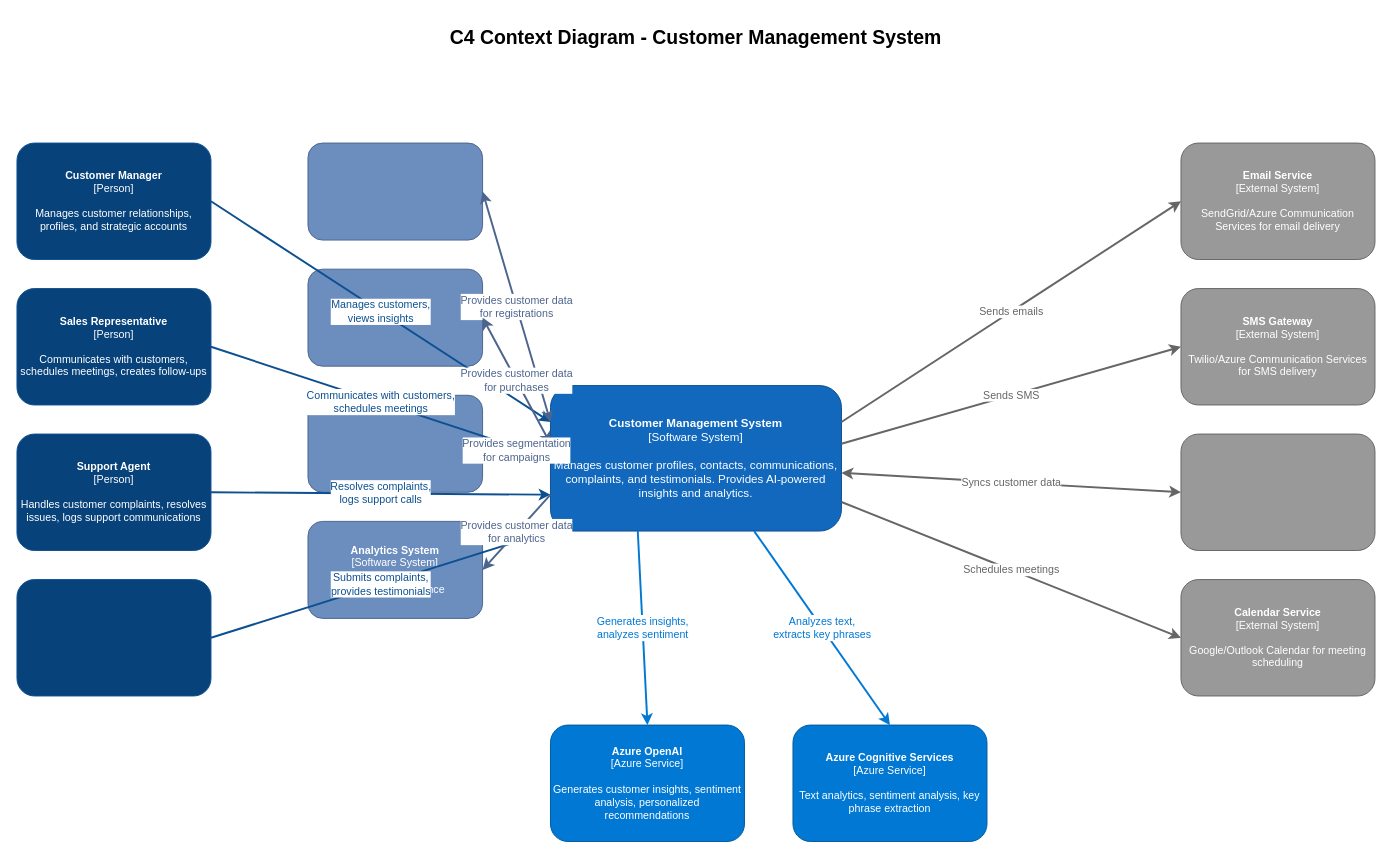
Some shapes in this 1392 by 858 pixel diagram are drawn without their labels. The centre of each missing label's shape, as x and y in pixels:
Customer [Person] Submits complaints, provides testimonials, views own profile: (113,637)
Event Management [Software System] Manages events and registrations: (395,191)
External CRM [External System] Salesforce/HubSpot integration for customer sync: (1277,491)
Marketing System [Software System] Campaign management: (395,443)
Ticketing System [Software System] Handles ticket sales: (395,317)
